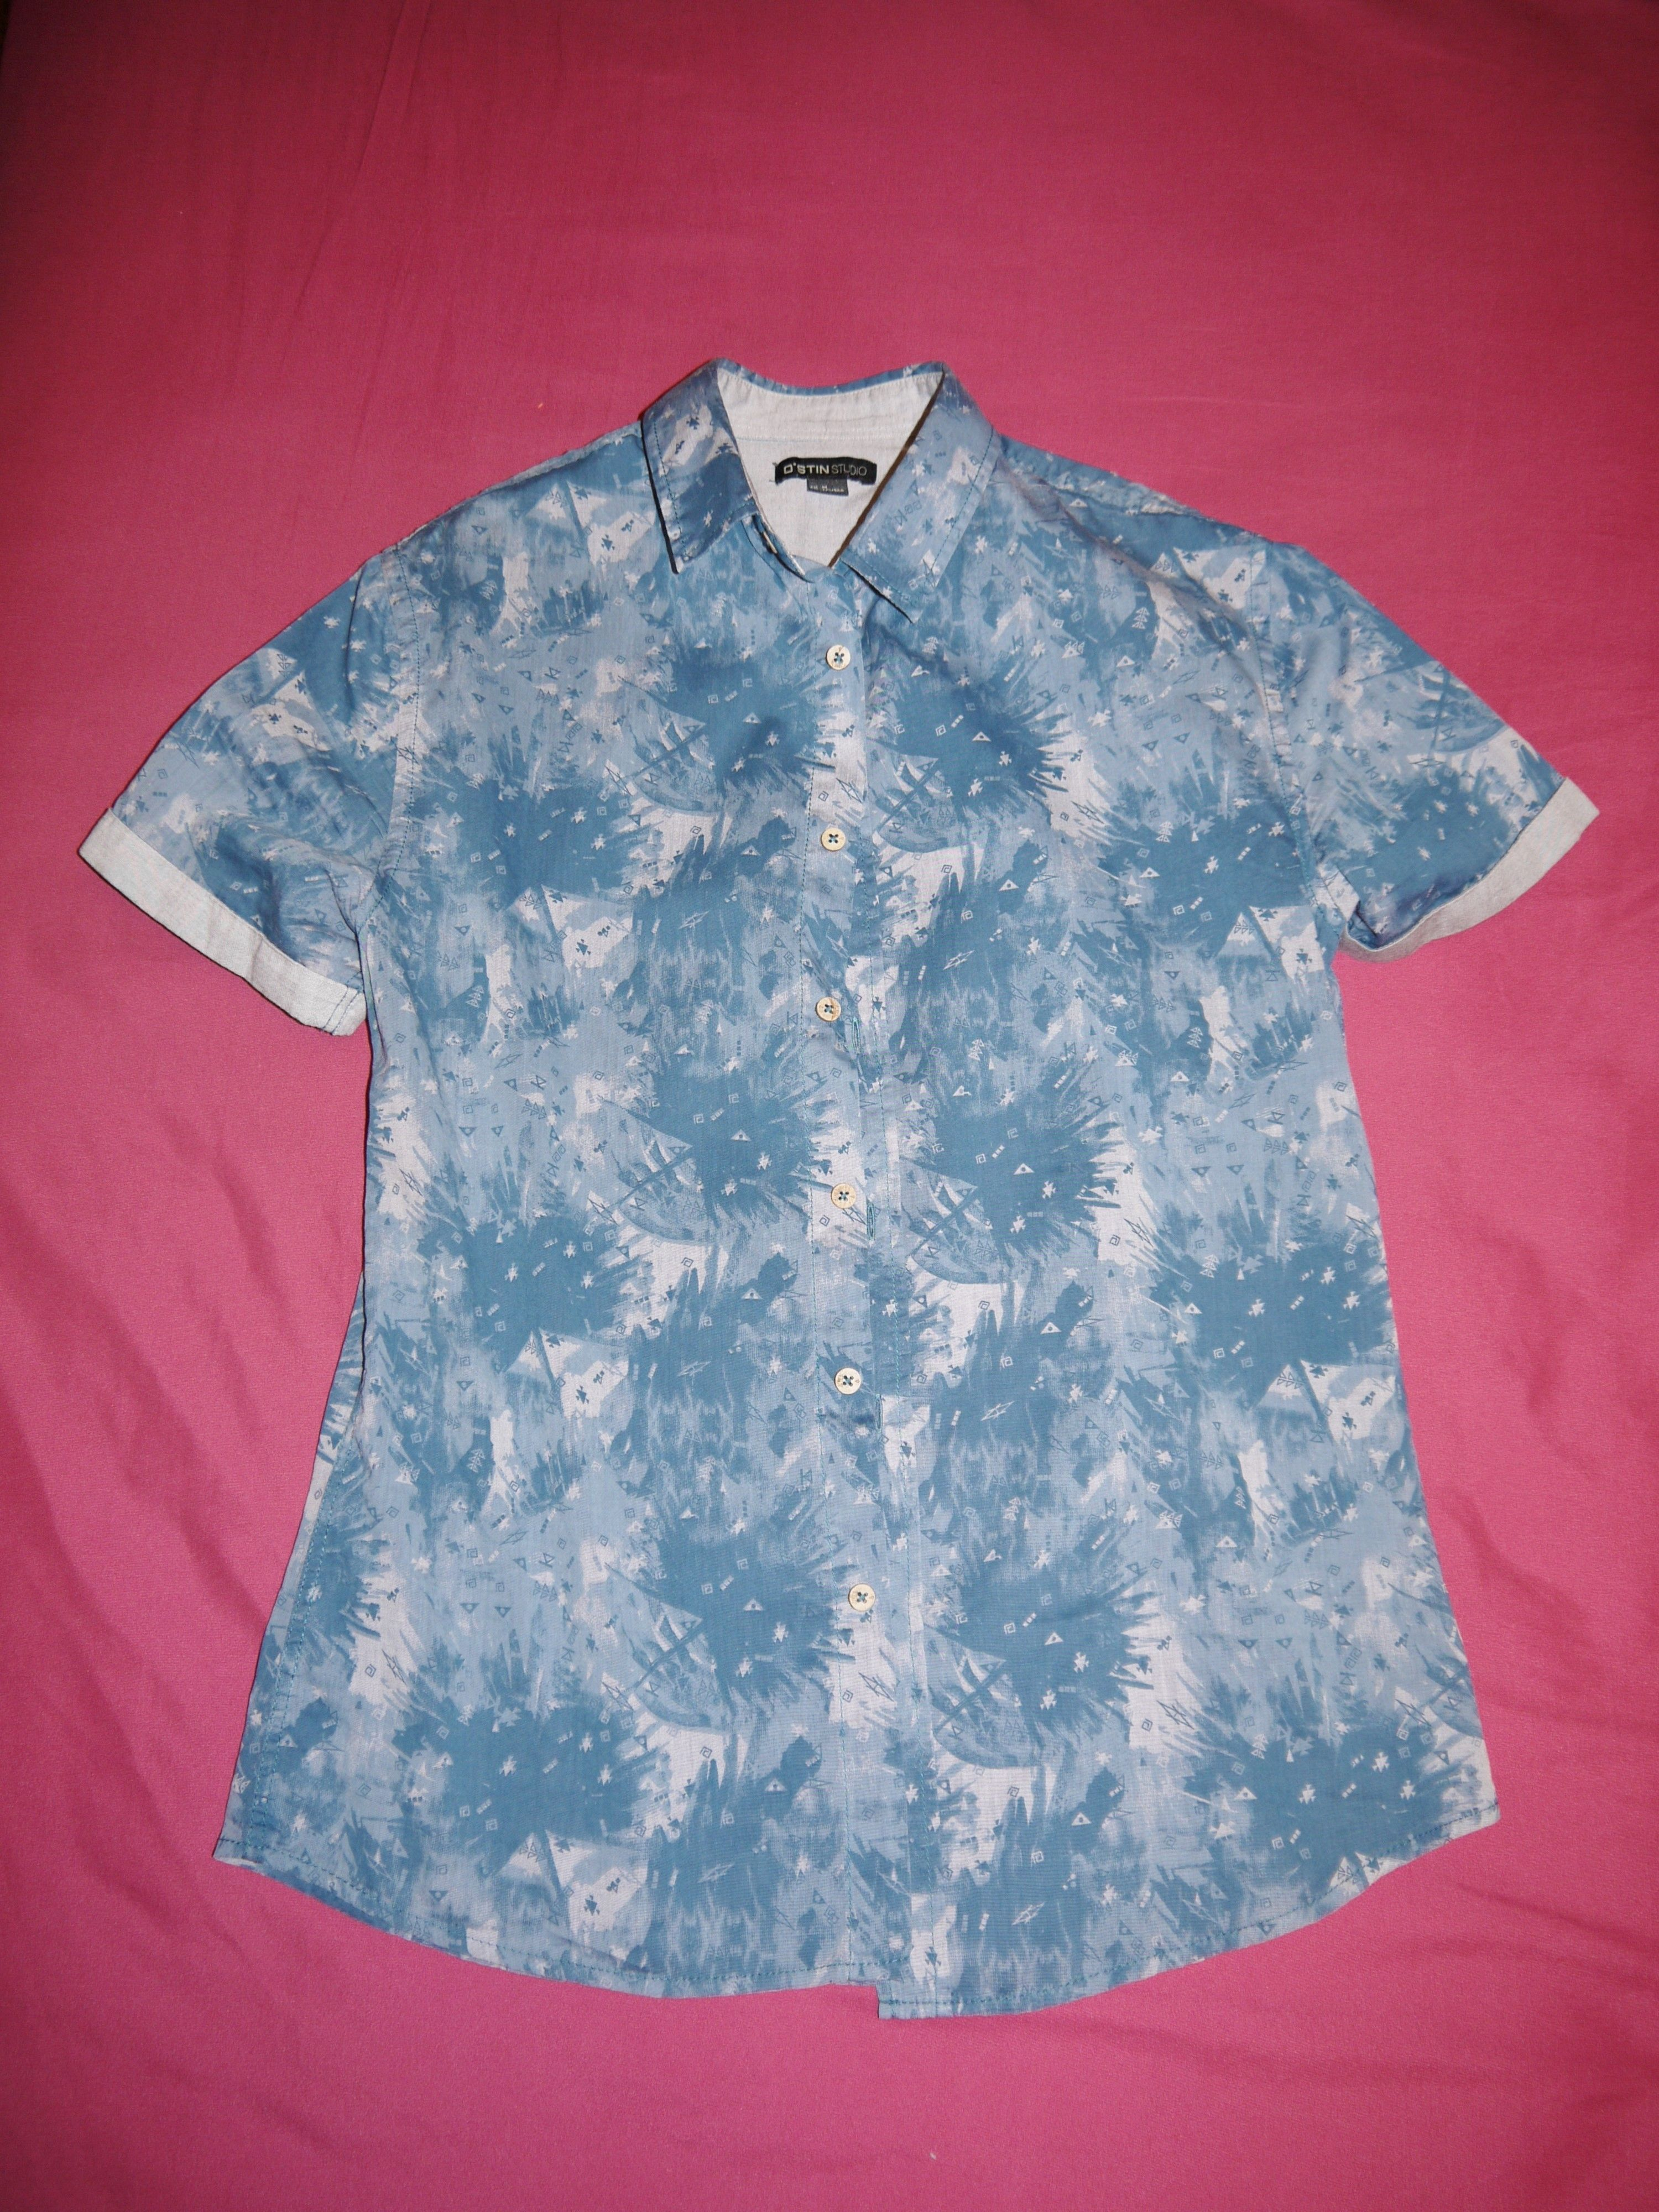clothes: (68, 361, 1605, 1968)
